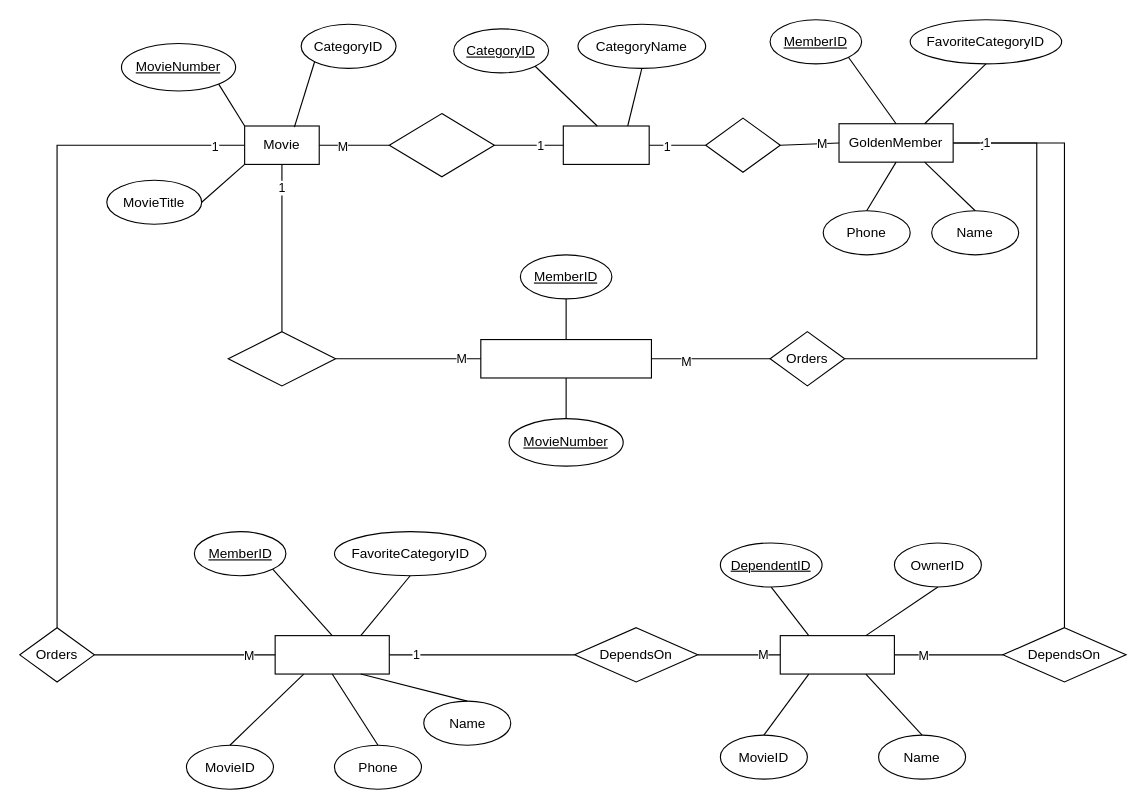
Image size: 1146x809. Some labels were removed from this diagram. The shapes that lost their labels are listed below. From the top down, each one's centre as x and y in pixels, then its label:
(441,144): BelongsTo
(605,144): Category
(742,144): Likes
(281,358): OrderedBy
(565,358): GoldenMemberMovies
(331,654): BronzeMember
(836,654): Dependents
